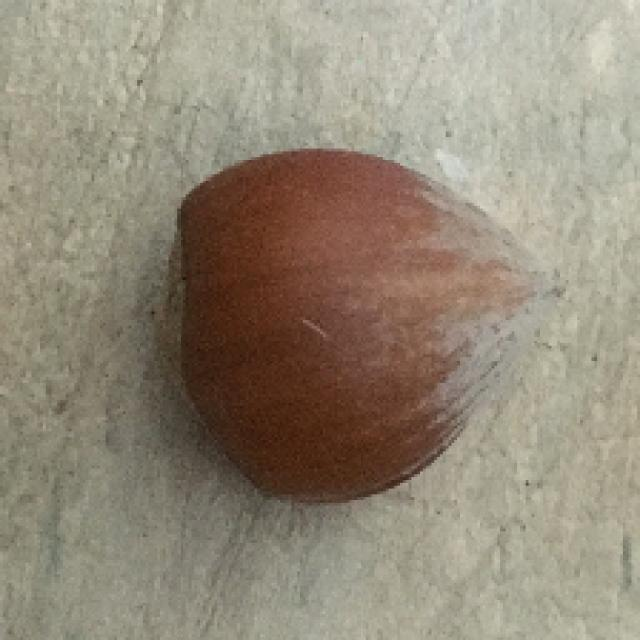qualityHazelnut: (164, 148, 550, 507)
